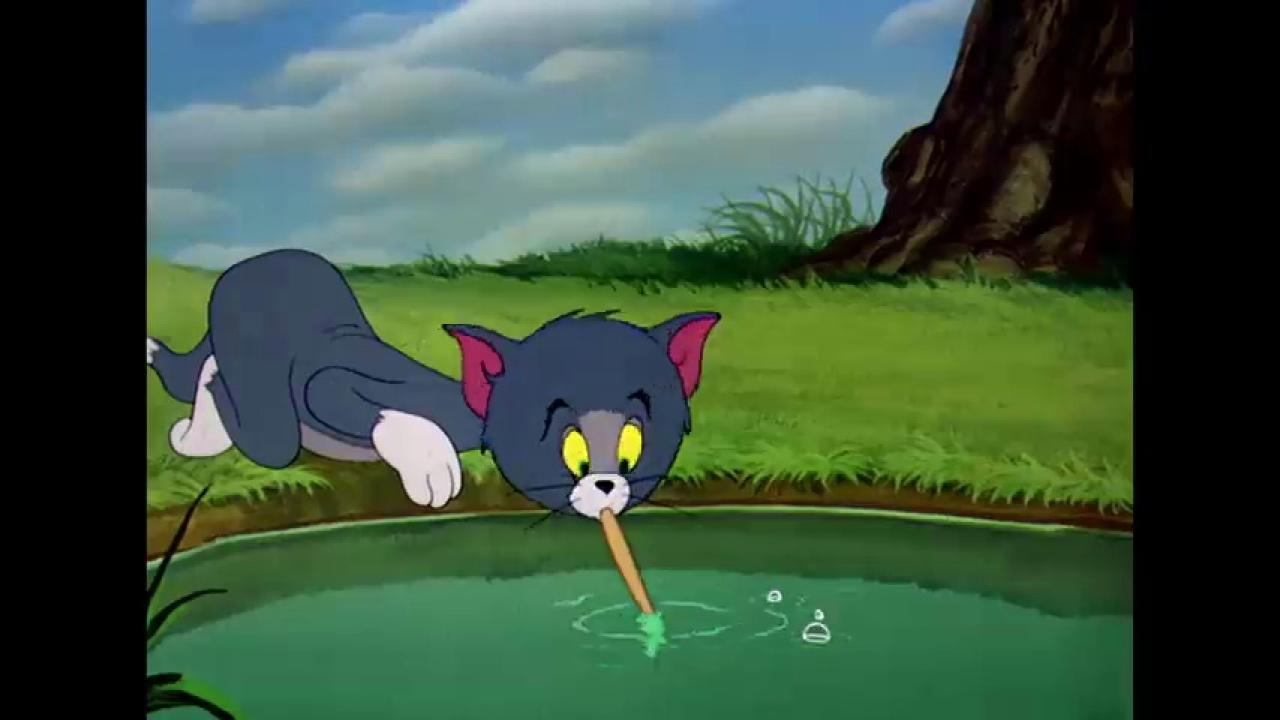Tom: (146, 247, 728, 520)
